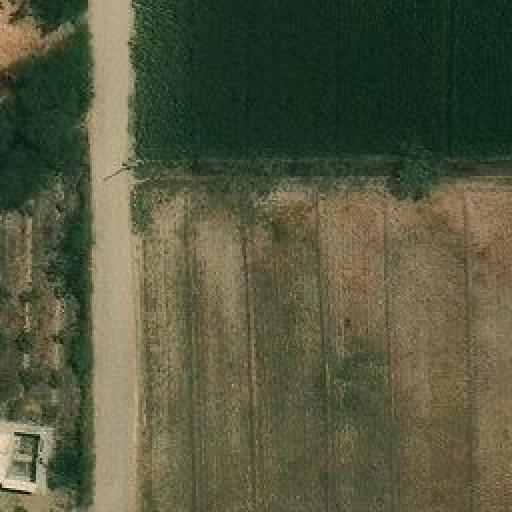manzanas: (0, 427, 52, 493)
